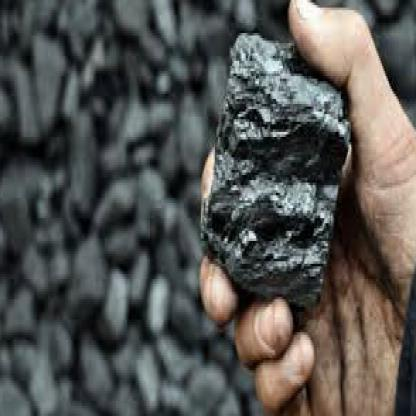Sedimentary_coal: (197, 20, 352, 297)
